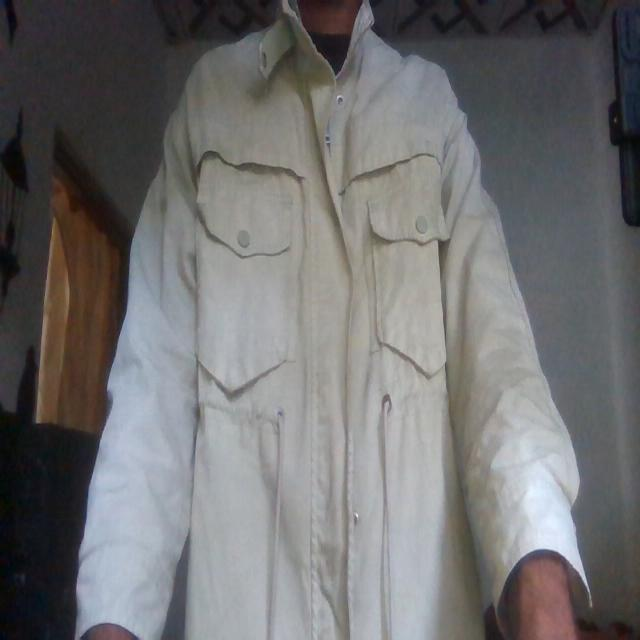Jacket_Wearer: (110, 0, 572, 640)
Person: (85, 0, 585, 640)
